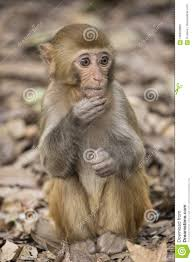monkey: (26, 18, 148, 233)
